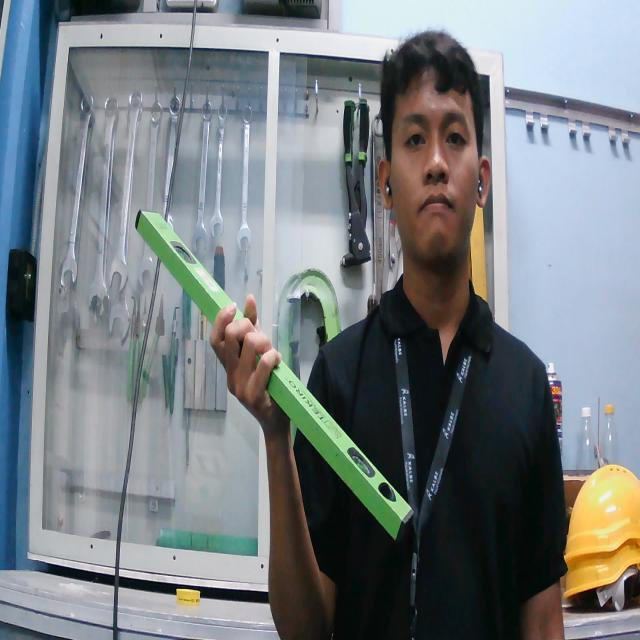water_pass: (130, 200, 417, 546)
